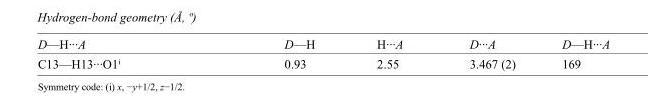table: (36, 37, 609, 70)
table column: (36, 37, 201, 70), (201, 37, 345, 70), (435, 37, 538, 70), (345, 37, 435, 70), (538, 37, 609, 70)
table row: (36, 53, 609, 70), (36, 37, 609, 53)
